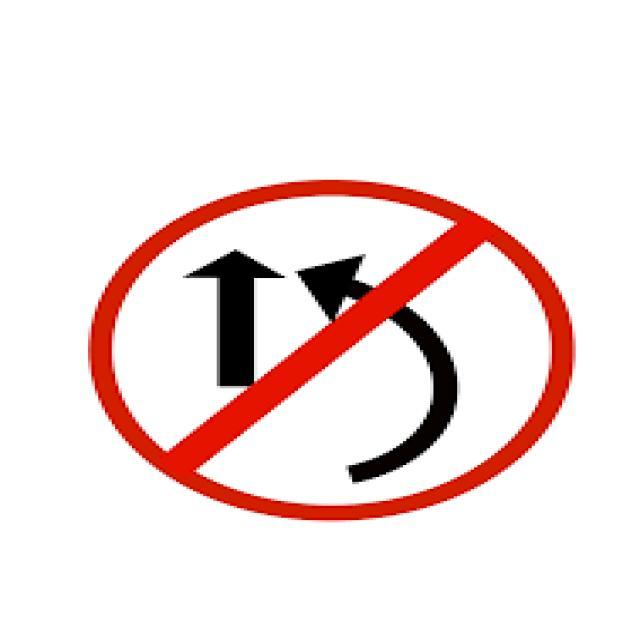overtaking prohibited: (83, 182, 577, 522)
